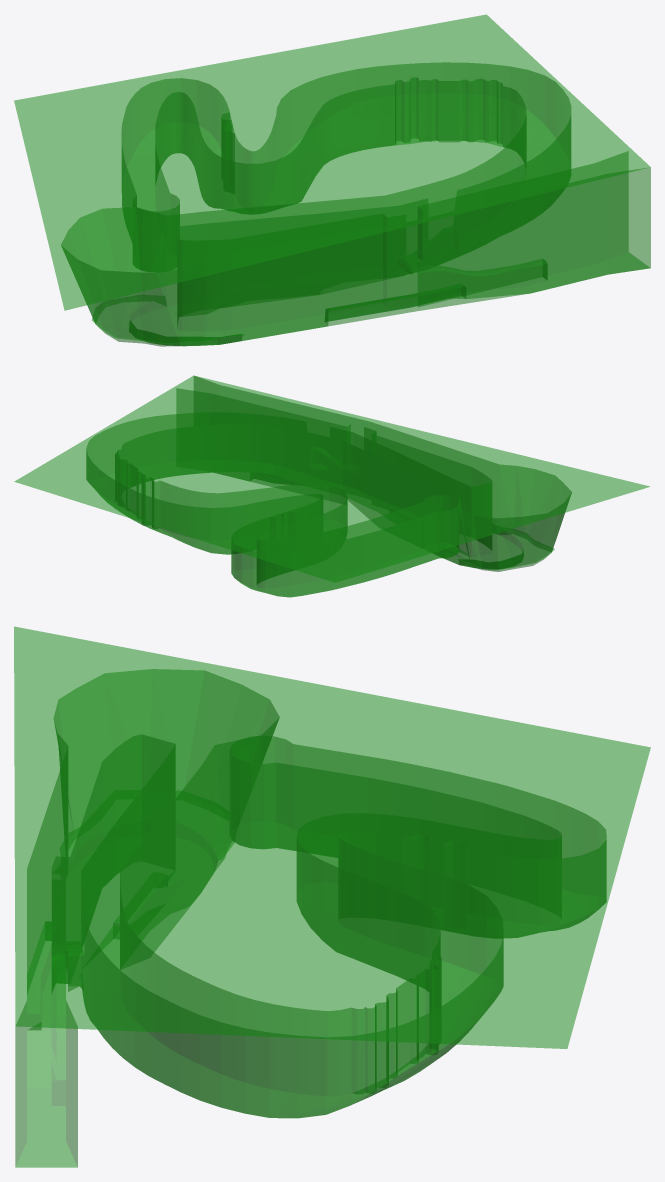
The model's file is _cam.obj.
3 views of the same model, one above another, from view 1: azimuth 30°, elevation 25°; view 2: azimuth 150°, elevation 25°; view 3: azimuth 270°, elevation 25° (orthographic). The views are drawn at different scales.
Bounding box in the file's own units: 641 × 99.82 × 408.
